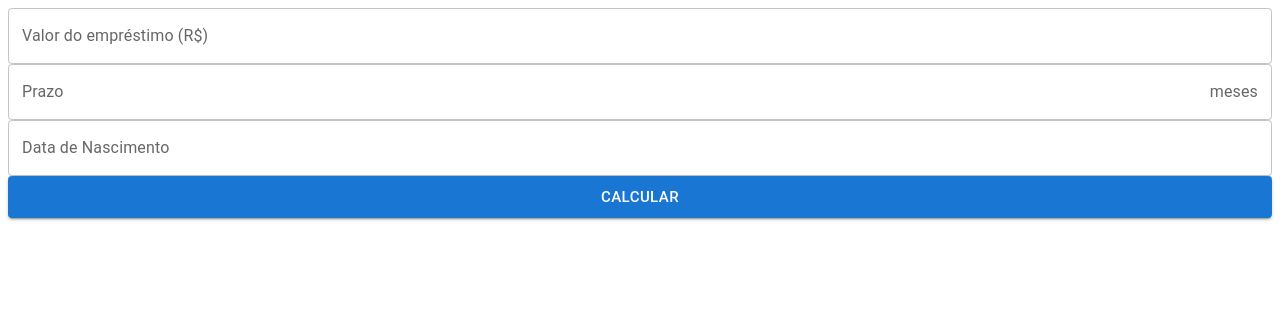
Test: LoanForm › validates minimum months
In the field labelled "Prazo": (605,92) [8,64,1202,120], type "6"
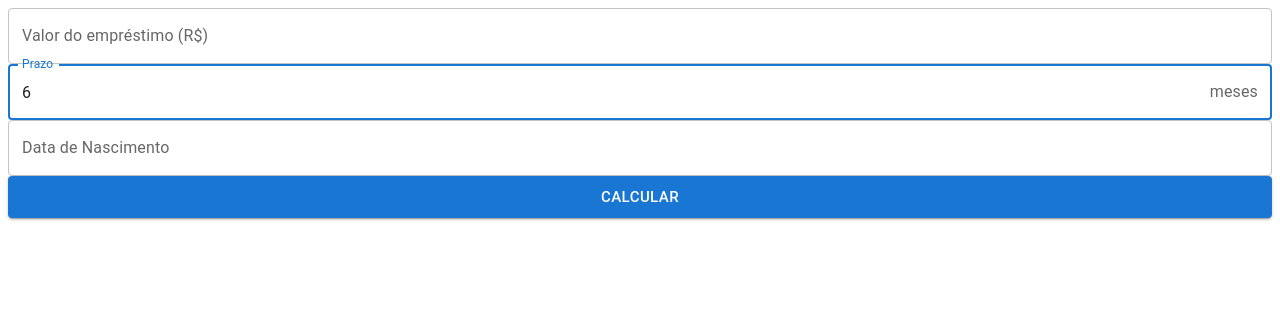
Click the button "Calcular": (640,197) [8,176,1272,218]
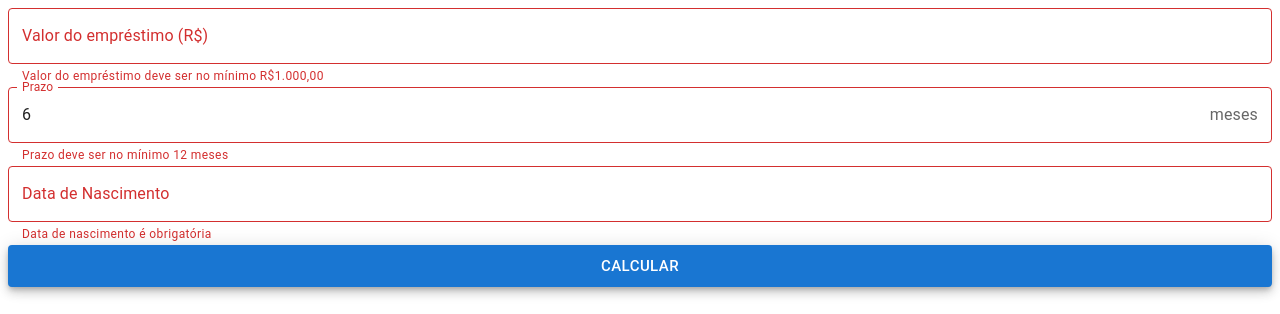
Check: the text "Prazo deve ser no mínimo 12 meses" is shown, box [22,148,228,162]
